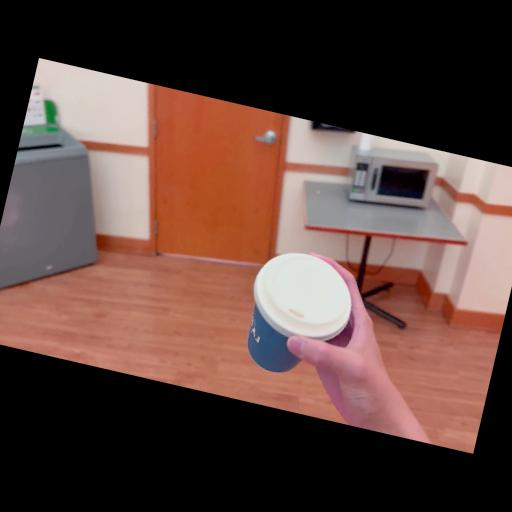lp_paper_cup: (227, 240, 366, 392)
